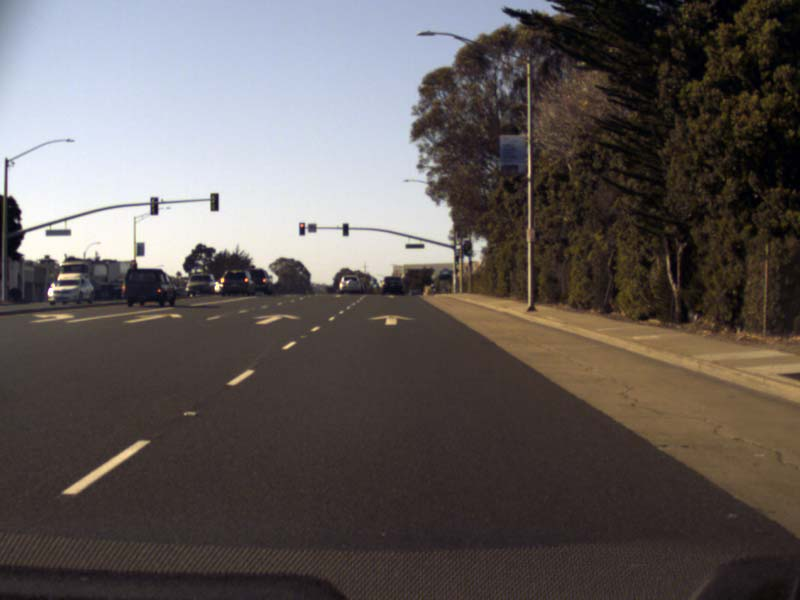Green: (465, 242, 473, 255), (454, 255, 459, 265)
Red: (298, 222, 304, 235)
